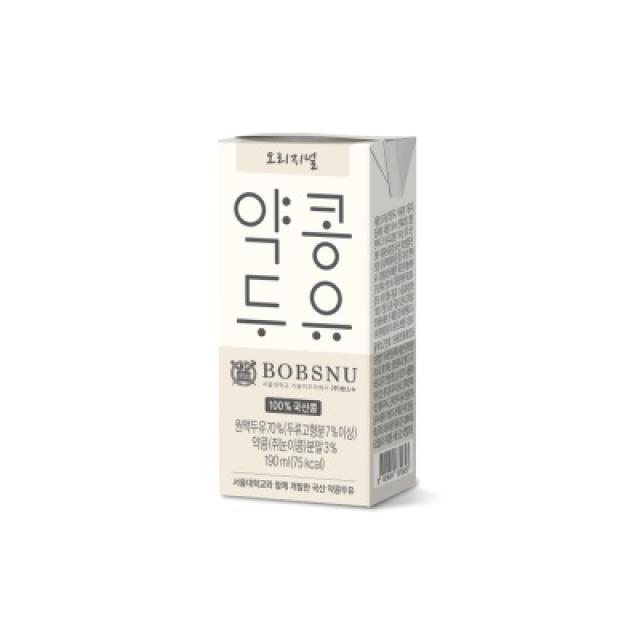Tetra: (206, 116, 449, 514)
